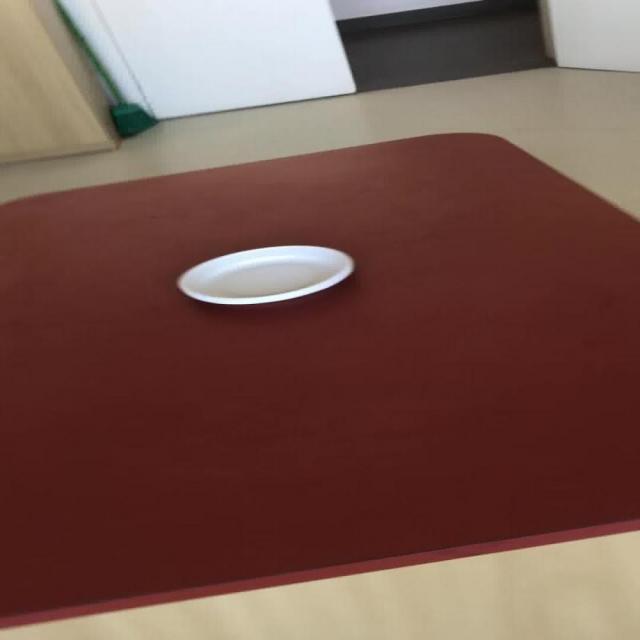Plate: (175, 244, 355, 305)
